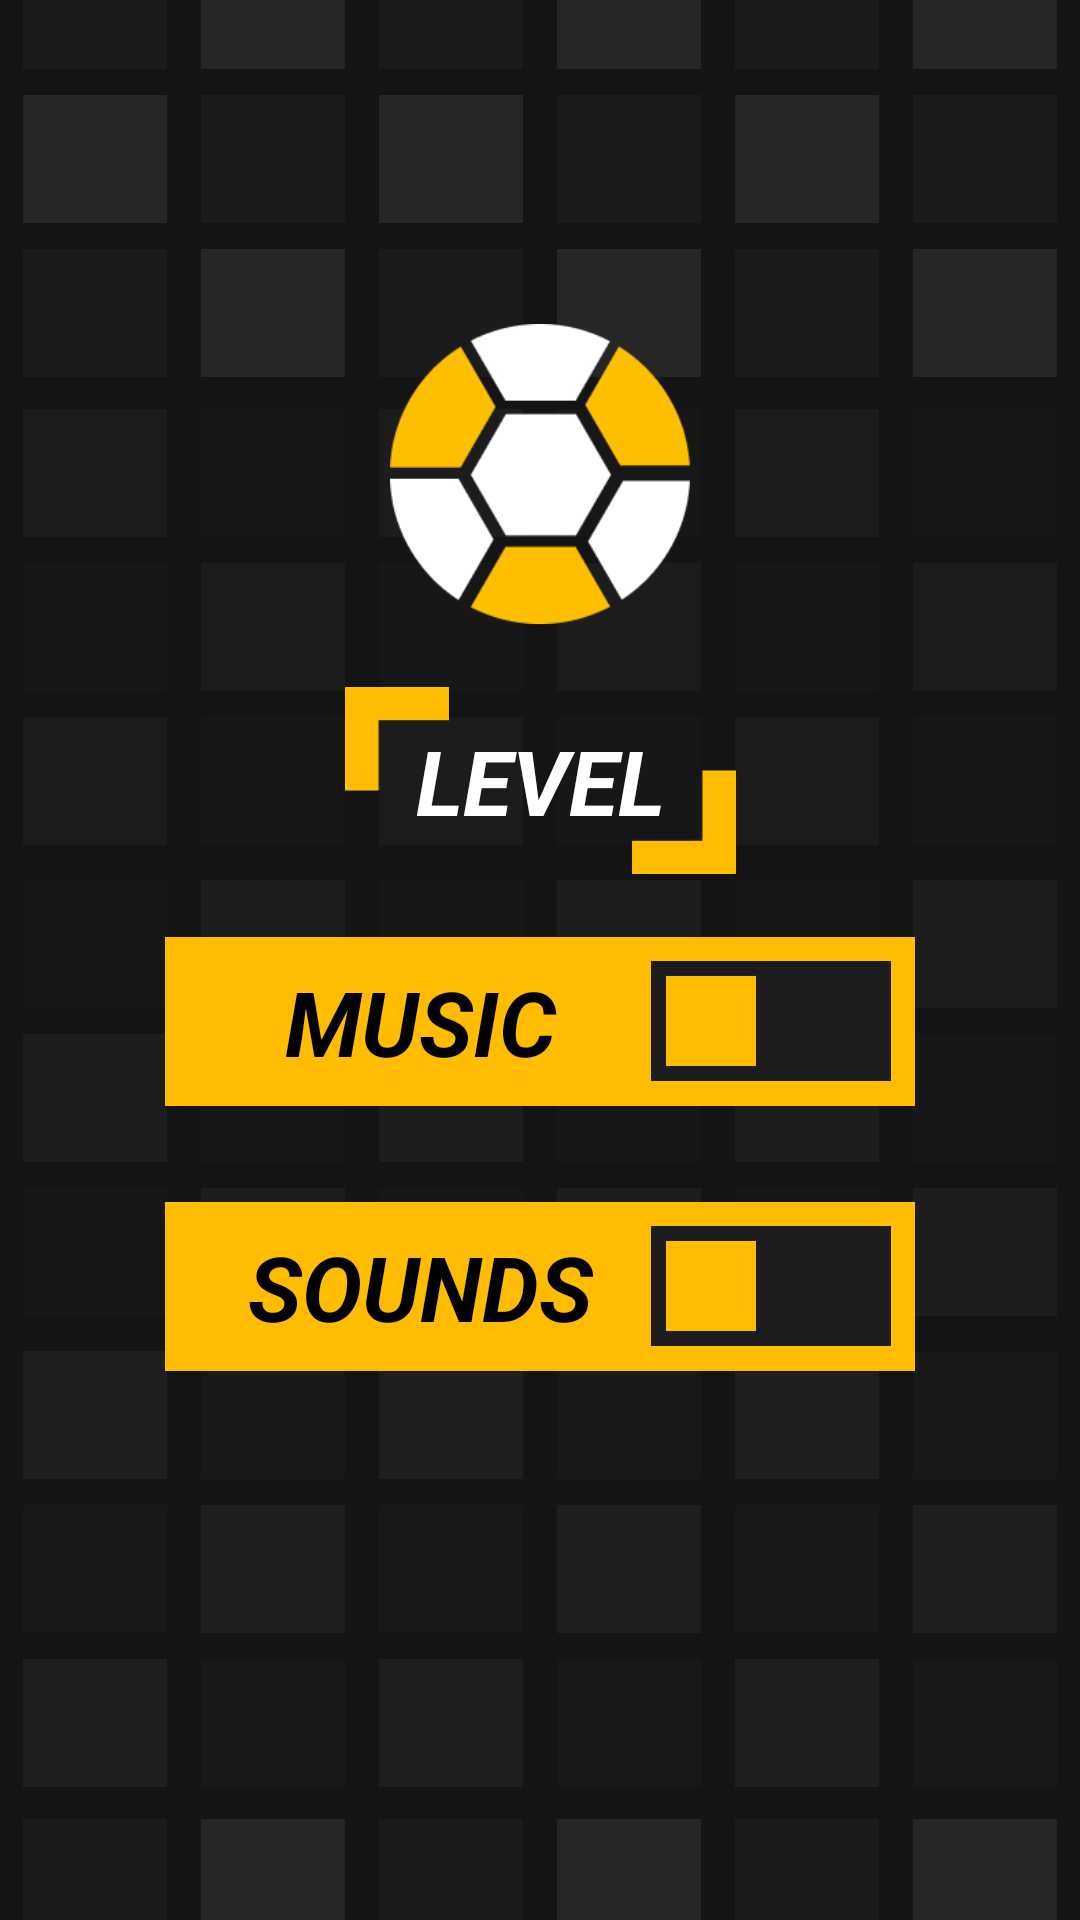

Named icons in this screenshot (1080×1920) and their bounding boxes, bbox=(x1, y1, x2, y2):
ball: bbox=(390, 324, 690, 624)
